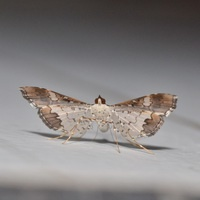insect: (20, 86, 177, 151)
